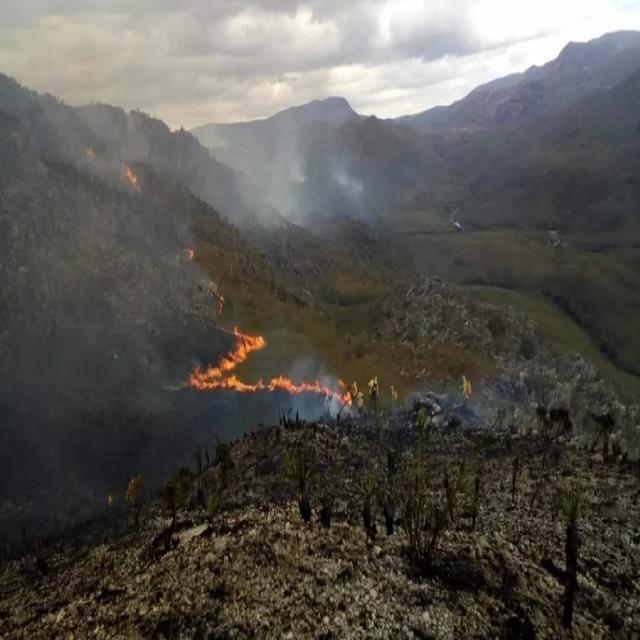Fire: (194, 374, 350, 406), (186, 329, 264, 381), (122, 160, 138, 188), (215, 288, 225, 322), (182, 242, 196, 264), (84, 144, 92, 158)
Smoke: (236, 172, 284, 226), (288, 356, 326, 418), (332, 162, 362, 198), (288, 153, 308, 185), (327, 390, 338, 418)
